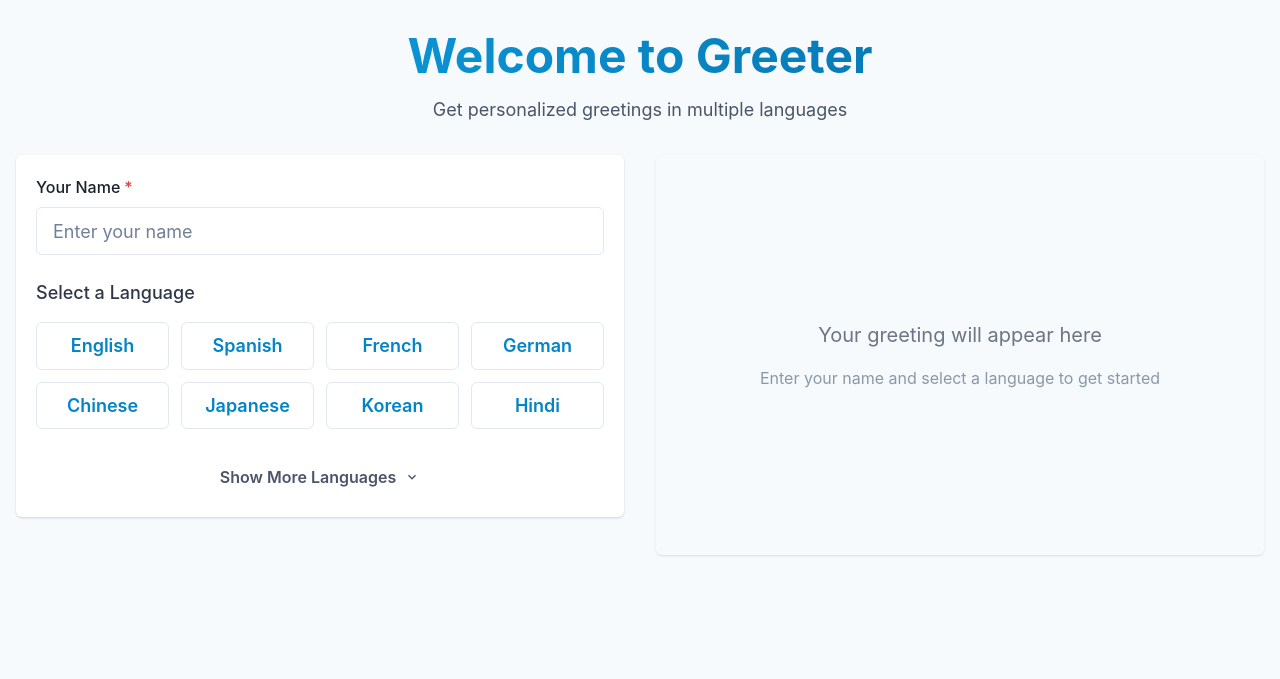
Home Component › shows validation message when submitting without name
Click the button "English": point(102, 346) [36,322,169,370]
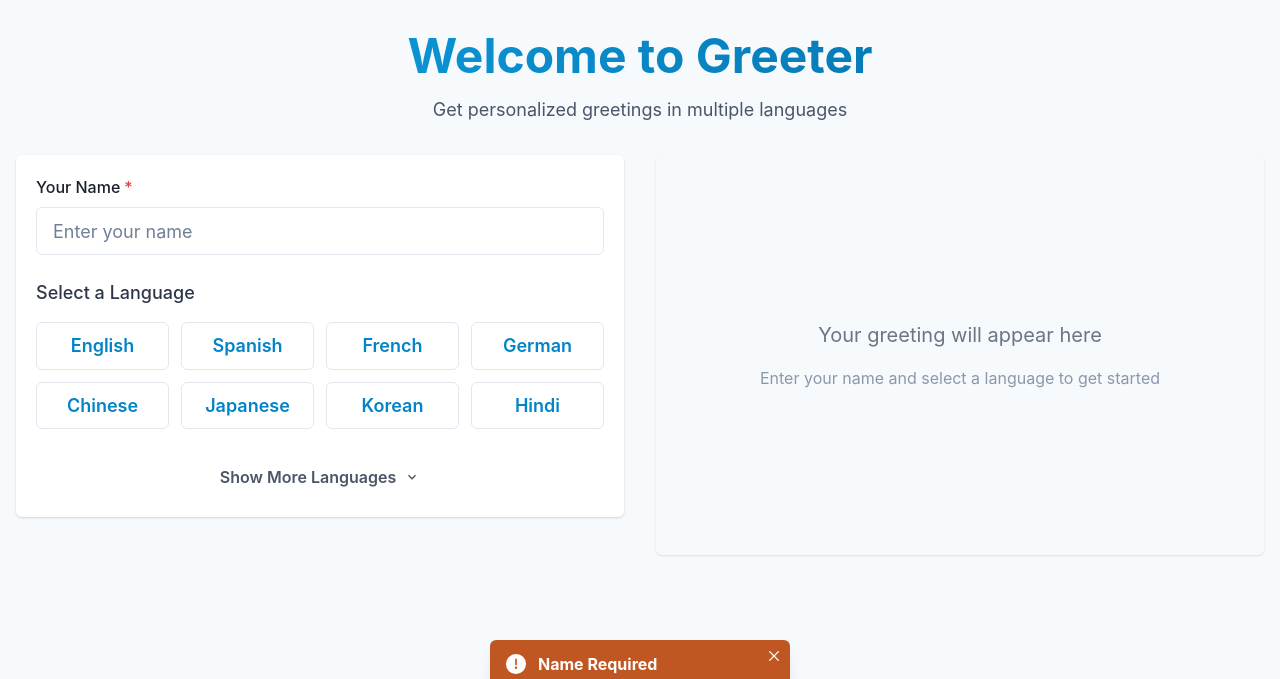
Now the text "Name Required" is shown, box [538,654,657,674]
